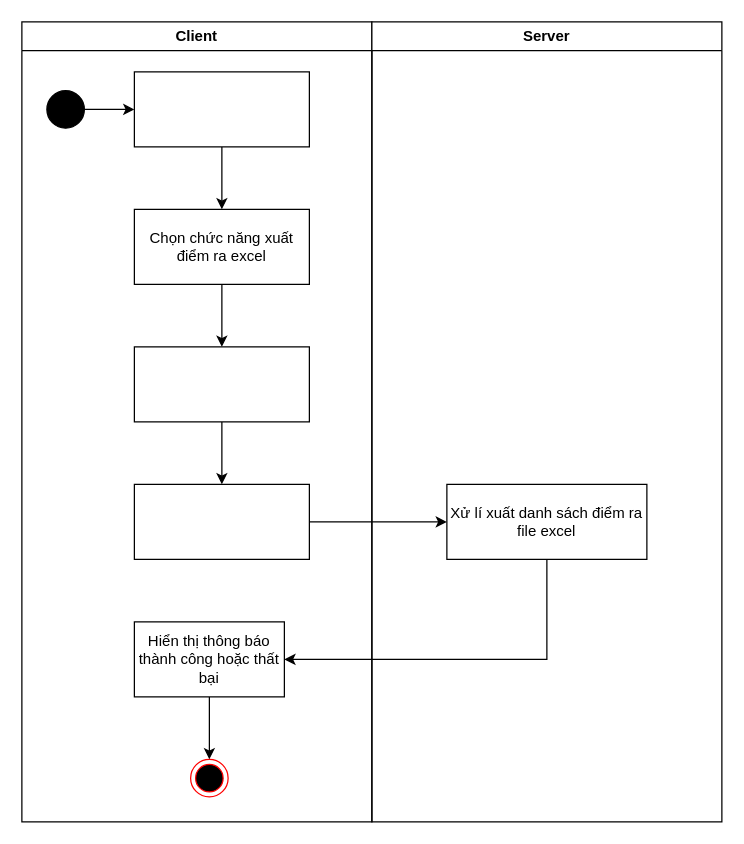
This 744x844 diagram has some shape labels left out. The shapes that lost their labels are listed below. From the top down, each one's centre as x and y in pixels, then its label:
At (221,109): "Màn hình danh sách điểm sinh viên".
At (221,384): "Hiển thị hộp thoại chọn nơi lưu file và đặt tên cho file xuất khẩu".
At (221,521): "Đặt tên cho file, chọn nơi lưu file và bấm lưu".
